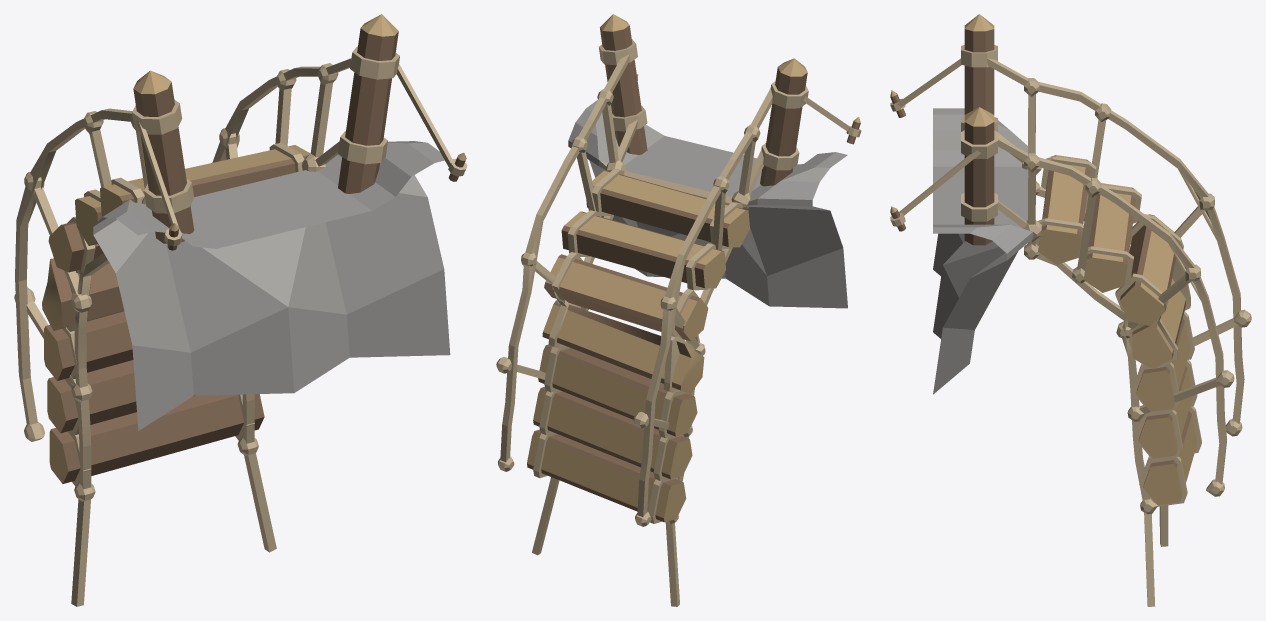
Rendered from Cliff_Prop_Bridge_Rope_End_CUT.obj.
3 renders of one model, left to right at view 1: azimuth 30°, elevation 25°; view 2: azimuth 150°, elevation 25°; view 3: azimuth 270°, elevation 25°, orthographic. The views are drawn at different scales.
Parts seen in each view (by area): view 1: object59, object3, object62, object22, object75, object5, object12, object34, object9, object52, object31, object8 (+13 smaller); view 2: object59, object8, object3, object9, object34, object12, object6, object5, object22, object31, object75, object62 (+12 smaller); view 3: object59, object22, object31, object8, object6, object5, object62, object75, object9, object3, object34, object12 (+13 smaller).
Boxes of the visible parts, left/top/right/bottom form: object59: left=93, top=141, right=450, bottom=430; object3: left=49, top=394, right=264, bottom=483; object62: left=338, top=14, right=398, bottom=193; object22: left=15, top=108, right=132, bottom=424; object75: left=133, top=70, right=194, bottom=243; object5: left=100, top=145, right=310, bottom=216; object12: left=47, top=360, right=194, bottom=433; object34: left=44, top=311, right=133, bottom=380; object9: left=42, top=258, right=124, bottom=330; object52: left=74, top=253, right=109, bottom=447; object31: left=212, top=66, right=320, bottom=162; object8: left=48, top=222, right=109, bottom=272; object59: left=568, top=100, right=847, bottom=308; object8: left=544, top=254, right=708, bottom=341; object3: left=527, top=429, right=686, bottom=522; object9: left=542, top=300, right=704, bottom=393; object34: left=538, top=344, right=697, bottom=436; object12: left=533, top=387, right=692, bottom=479; object6: left=561, top=211, right=725, bottom=288; object5: left=586, top=170, right=749, bottom=247; object22: left=637, top=132, right=752, bottom=516; object31: left=500, top=97, right=606, bottom=461; object75: left=760, top=58, right=807, bottom=186; object62: left=600, top=14, right=647, bottom=154; object59: left=933, top=108, right=1033, bottom=394; object22: left=1039, top=82, right=1244, bottom=423; object31: left=1039, top=157, right=1226, bottom=484; object8: left=1120, top=214, right=1176, bottom=326; object6: left=1083, top=183, right=1136, bottom=292; object5: left=1038, top=155, right=1090, bottom=264; object62: left=964, top=107, right=994, bottom=245; object75: left=964, top=14, right=994, bottom=114; object9: left=1132, top=278, right=1185, bottom=369; object3: left=1143, top=410, right=1197, bottom=505; object34: left=1136, top=318, right=1190, bottom=411; object12: left=1138, top=366, right=1192, bottom=458.
Bounding box in the file's own units: 2 × 3.84 × 2.44.
